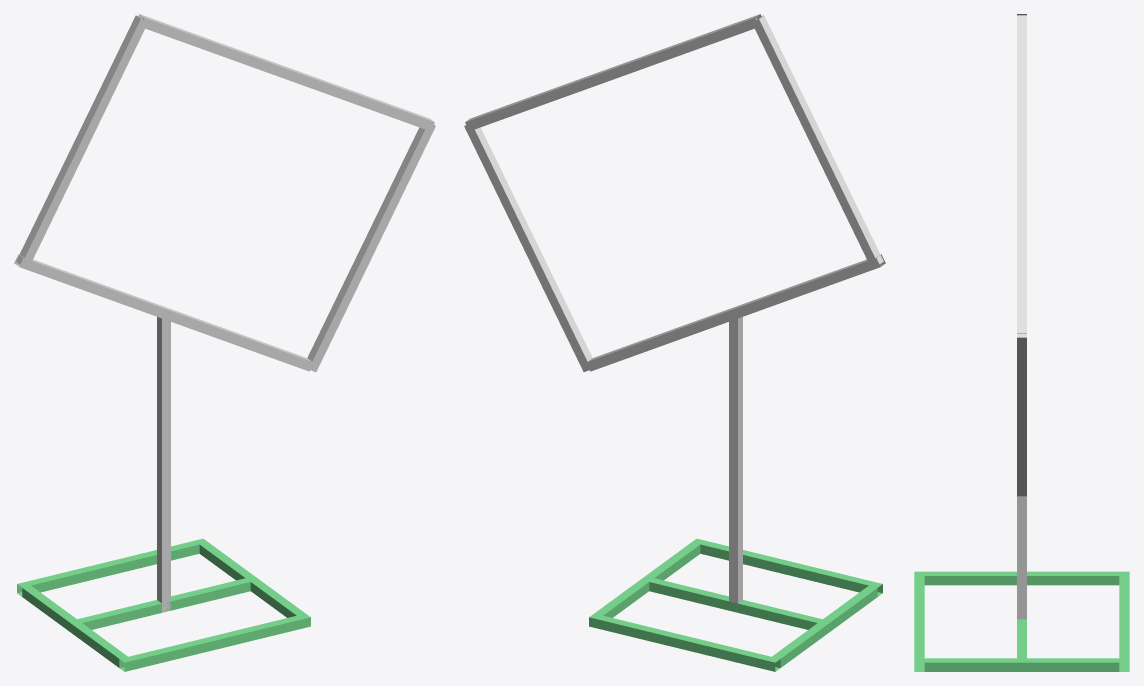
Rendered from normal_gate_angle1.dae.
The picture shows the model from 3 angles, left to right: view 1: azimuth 30°, elevation 25°; view 2: azimuth 150°, elevation 25°; view 3: azimuth 270°, elevation 25°; orthographic projection.
Visible parts, largest first — view 1: gate_l, stick, gate_r, gate_t, gate_b, base_f, base_b, base_c, base_l, base_r; view 2: gate_l, stick, gate_r, gate_b, gate_t, base_b, base_c, base_f, base_l, base_r; view 3: gate_t, base_l, base_r, gate_r, stick, base_b, base_f, base_c.
Boxes of the visible parts, x1,y1,x2,y2 form: gate_l: (16,15,147,267); stick: (157,313,170,612); gate_r: (307,123,435,371); gate_t: (138,14,434,129); gate_b: (14,254,313,371); base_f: (119,613,310,671); base_b: (17,538,207,596); base_c: (73,578,250,629); base_l: (22,585,127,667); base_r: (199,542,305,617); gate_l: (752,15,883,267); stick: (729,313,742,612); gate_r: (464,123,592,371); gate_b: (587,254,885,371); gate_t: (465,14,761,129); base_b: (589,613,780,671); base_c: (645,577,826,629); base_f: (692,538,882,596); base_l: (772,585,877,667); base_r: (594,542,700,617); gate_t: (1017,15,1026,337); base_l: (924,571,1119,585); base_r: (924,658,1119,671); gate_r: (1017,333,1026,496); stick: (1017,496,1026,619); base_b: (1119,571,1129,671); base_f: (914,571,924,671); base_c: (1017,619,1026,660).
Bounding box in the file's own units: 2.35 × 1.05 × 3.23.
